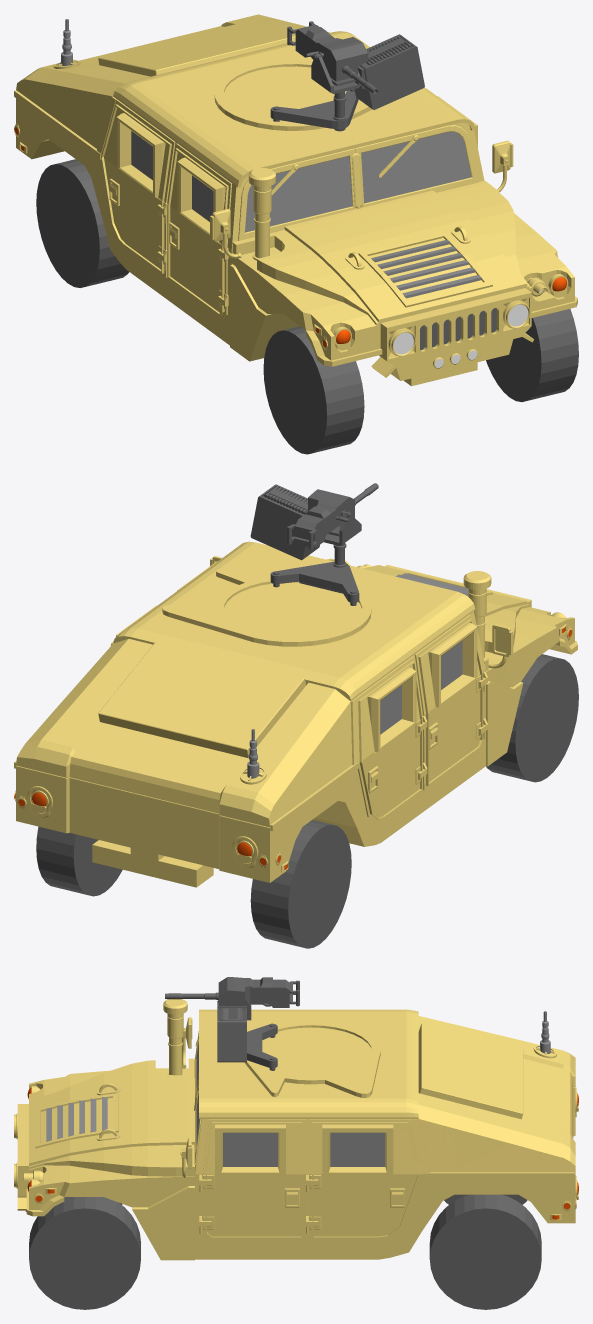
File: Humvee_Test.fbx
The picture shows the model from 3 angles, top to bottom: view 1: azimuth 30°, elevation 25°; view 2: azimuth 150°, elevation 25°; view 3: azimuth 270°, elevation 25°; orthographic projection. The views are drawn at different scales.
Visible parts, largest first — view 1: Body.001, Turret; view 2: Body.001, Turret; view 3: Body.001, Turret.
Part boxes in pixels (left/top/right/bottom): Body.001: left=14, top=14, right=578, bottom=454; Turret: left=214, top=21, right=424, bottom=131; Body.001: left=14, top=541, right=578, bottom=948; Turret: left=162, top=483, right=378, bottom=646; Body.001: left=14, top=999, right=578, bottom=1309; Turret: left=165, top=977, right=380, bottom=1097.
Size of the model in its own units: 172 by 171 by 318.
